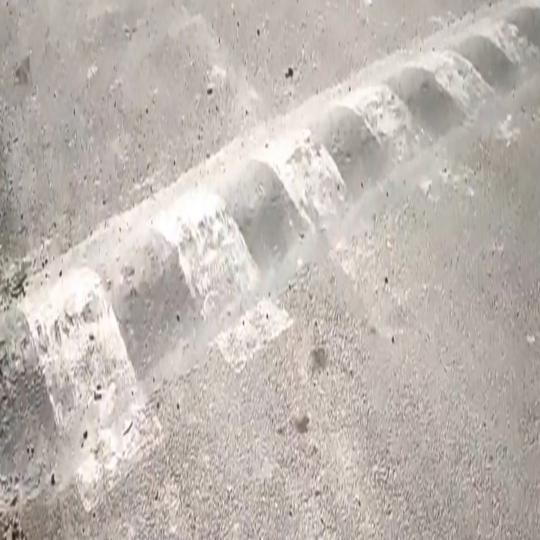Speed Bump: (0, 0, 540, 507)
